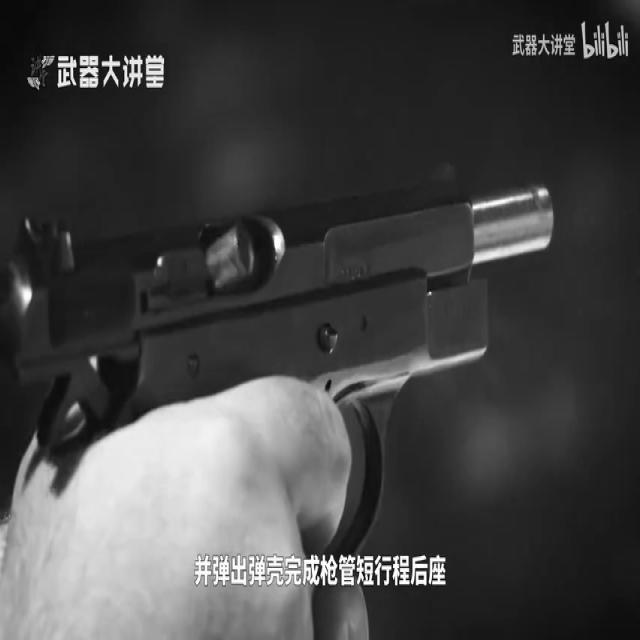Hand-Gun: (0, 163, 560, 486)
